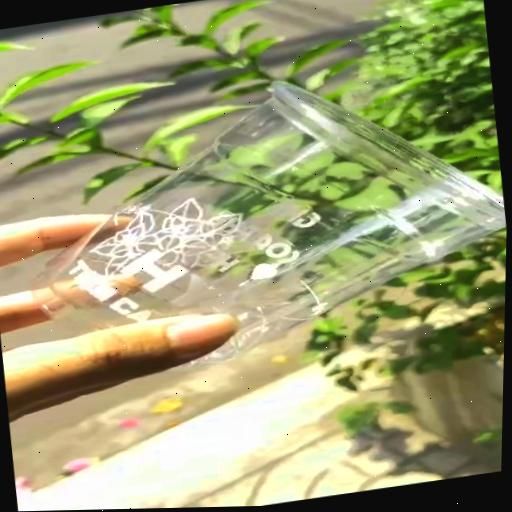ly_giay: (36, 82, 507, 359)
